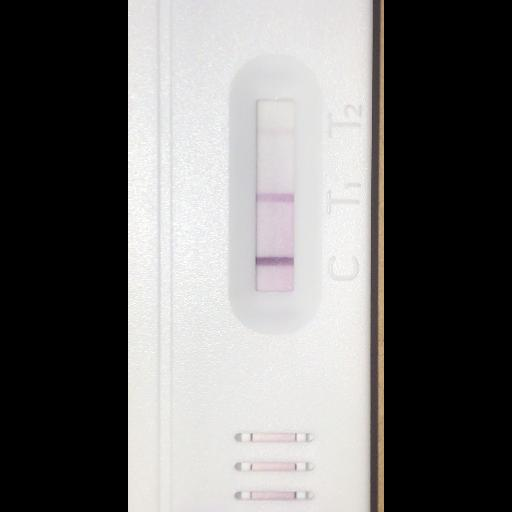Pos: (163, 0, 372, 511)
